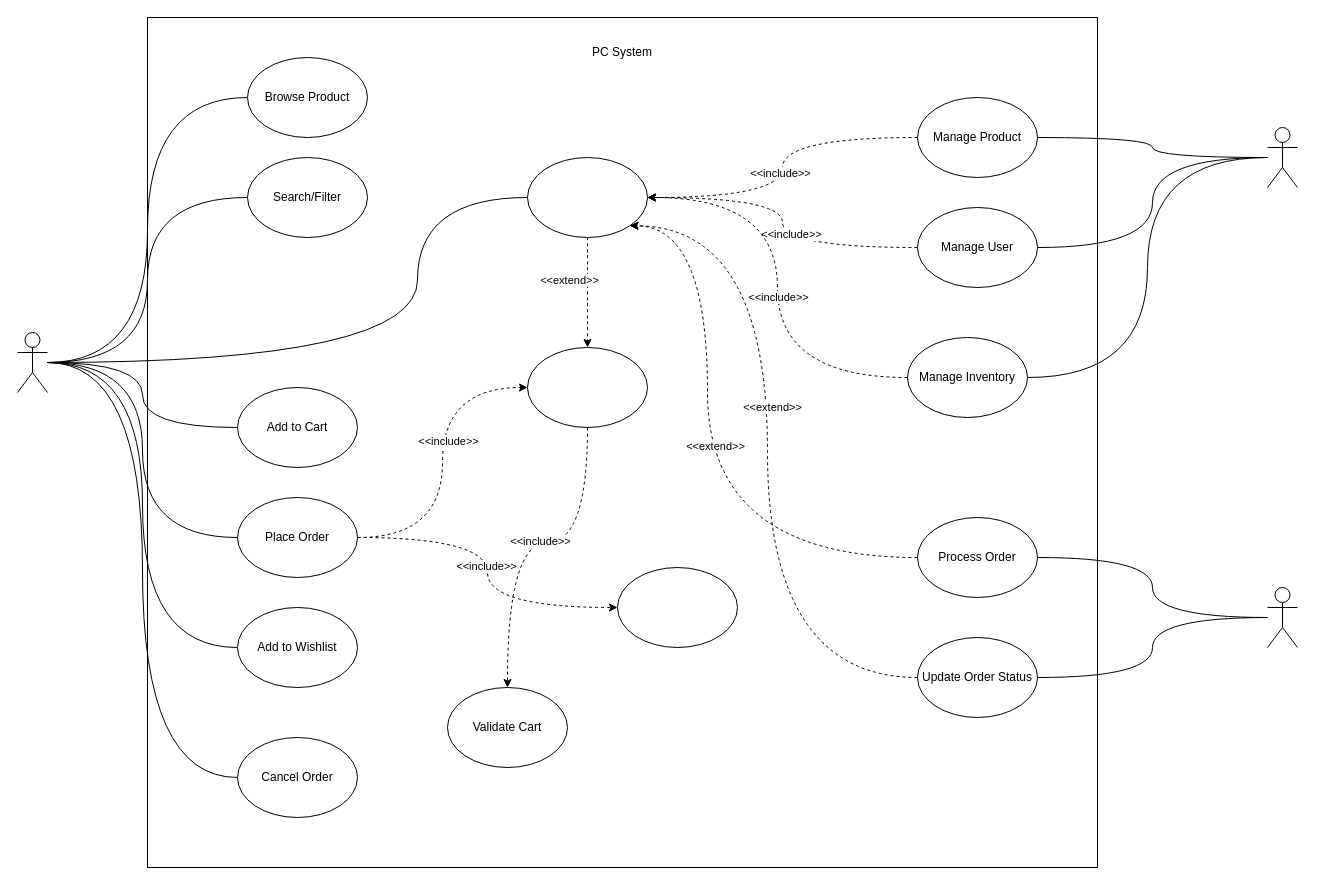
Some shapes in this 1317 by 885 pixel diagram are drawn without their labels. Each missing label, with the centre of its shape:
Admin: the point at 1282,157
Checkout: the point at 587,387
Client: the point at 32,362
Payment Method: the point at 677,607
SignUp/SignIn: the point at 587,197
Staff: the point at 1282,617
